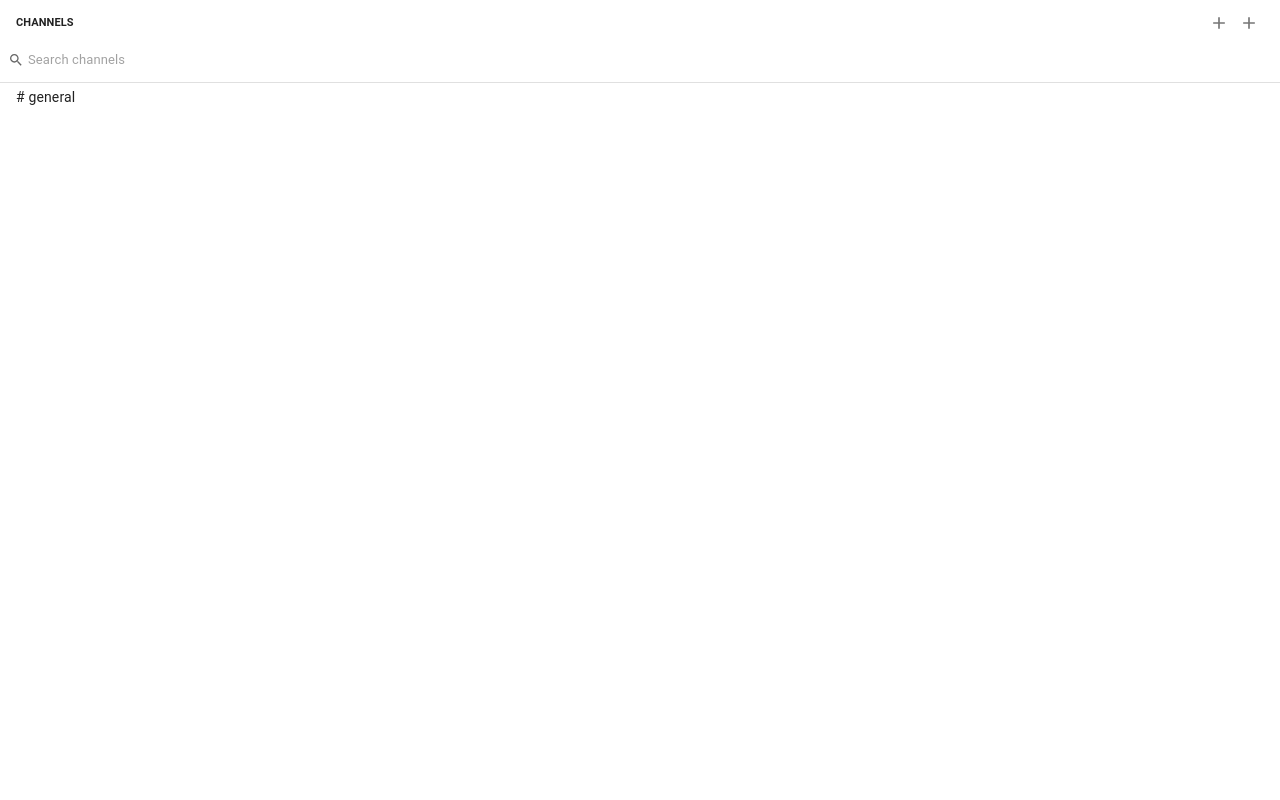
Scenario: ChannelList › チャンネル作成ダイアログ › 新しいチャンネルが作成されるとリストに追加され、名前のアルファベット順にソートされる
The image size is (1280, 800).
Note: + ボタン → ダイアログ表示 → チャンネル名入力 → 送信
Click the button named "create channel" at (1249, 23), box [1234,8,1264,38]
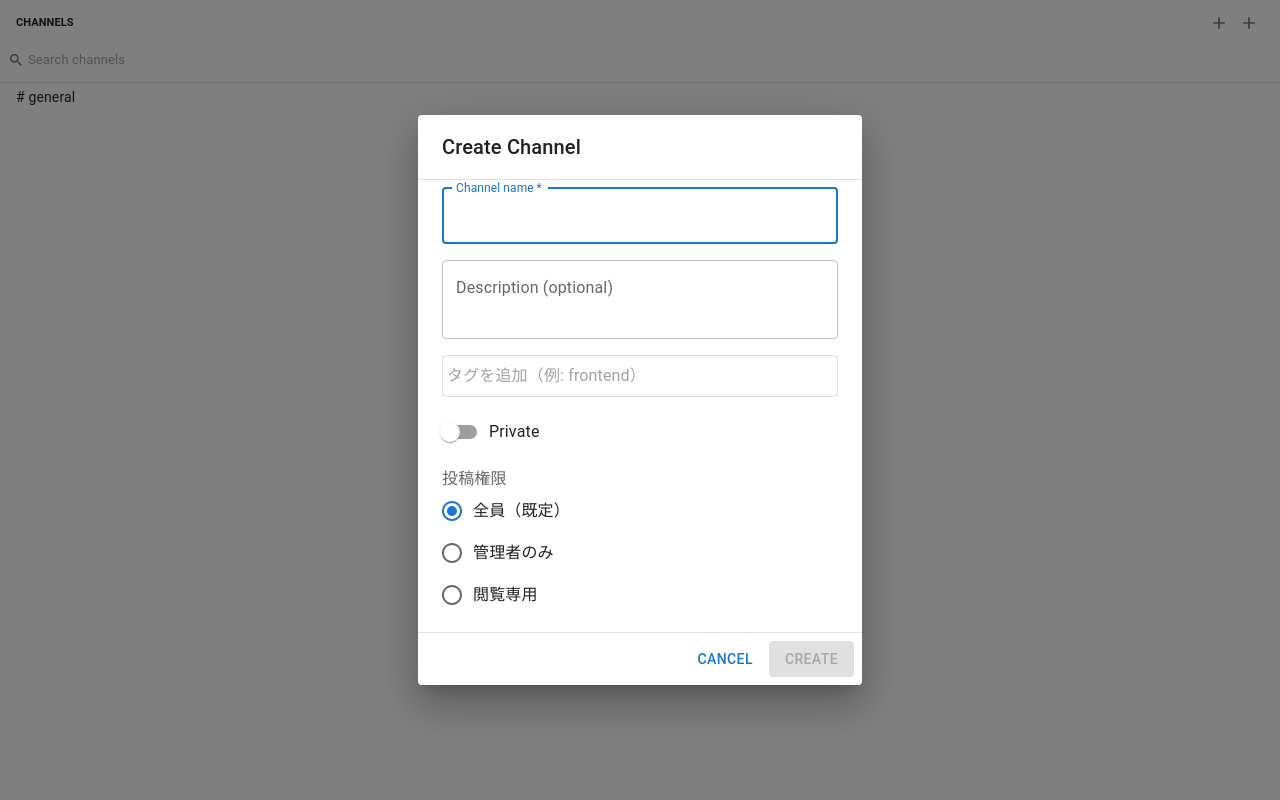
Type "announce" into the field labelled "Channel name *" at (640, 216), box [442,188,838,244]
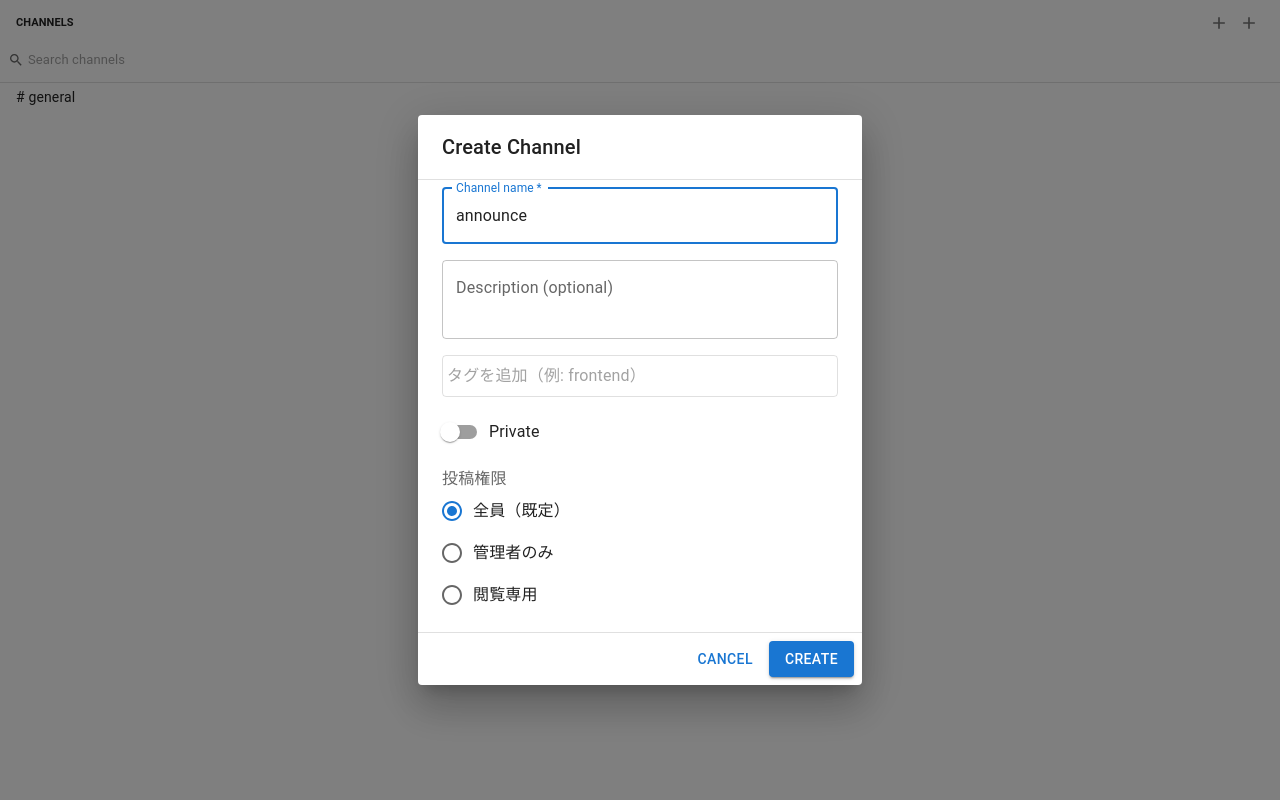
Click the button "Create" at (811, 659), box [769,641,854,677]
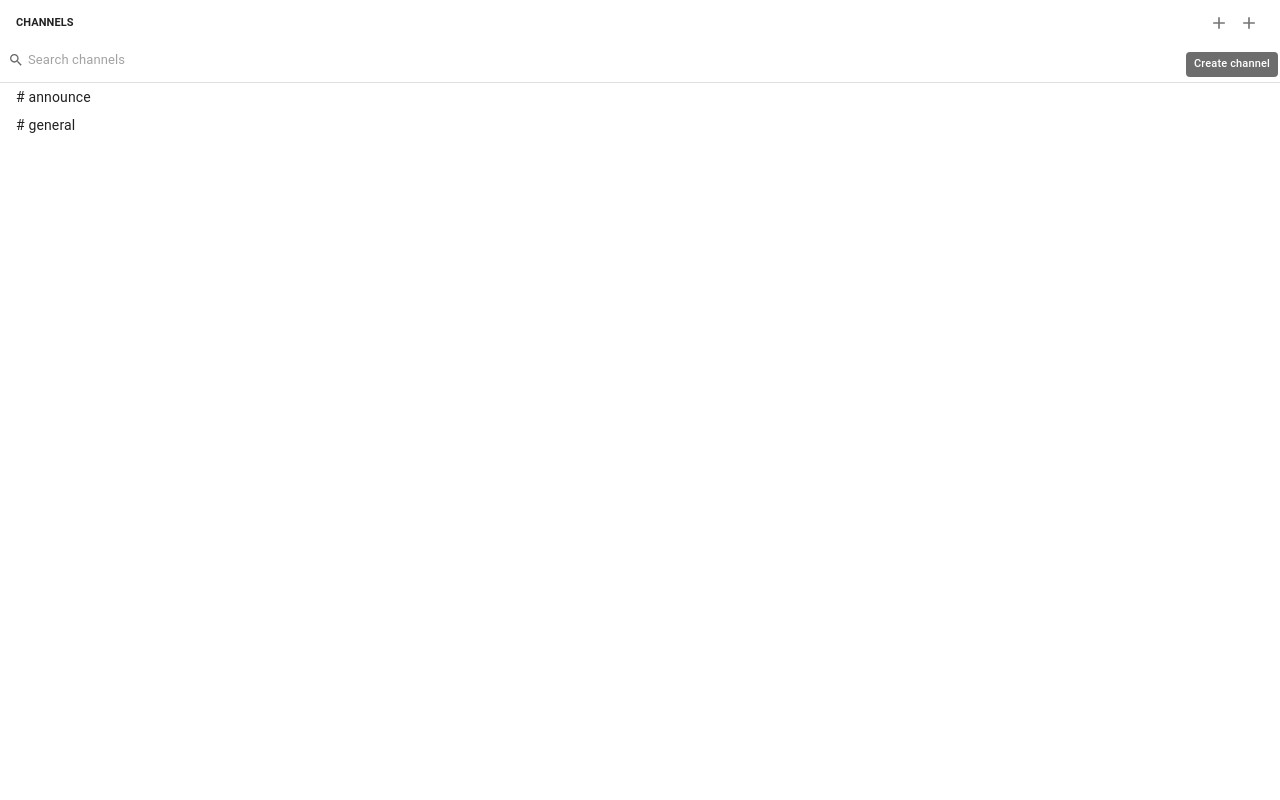
Expected: the text "# general" is shown, [16,117,75,133]
Expected: the text "# announce" is shown, [16,89,91,105]
